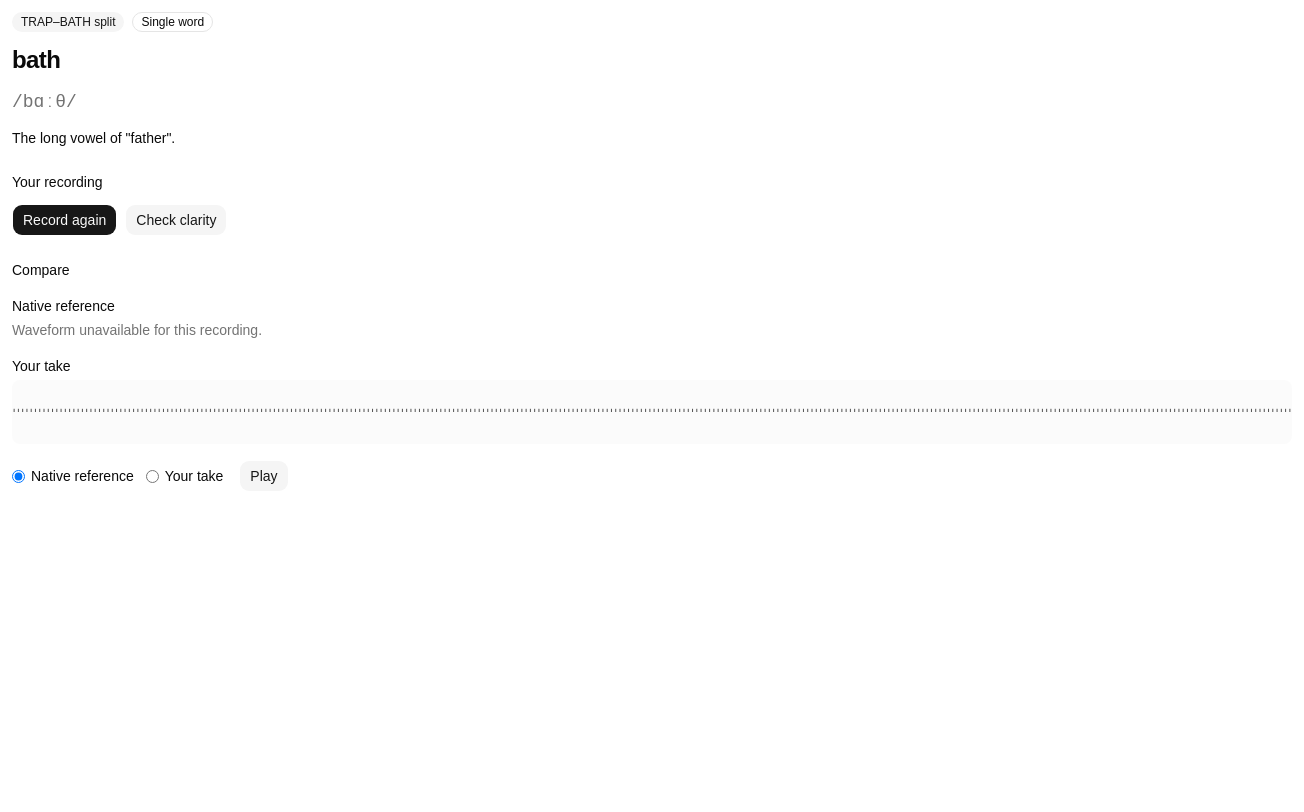
Test case: comparing a take with the reference › drops the old markers when a new take is recorded
Click the button "Check clarity". click: [176, 220]
box: [125,204,227,236]
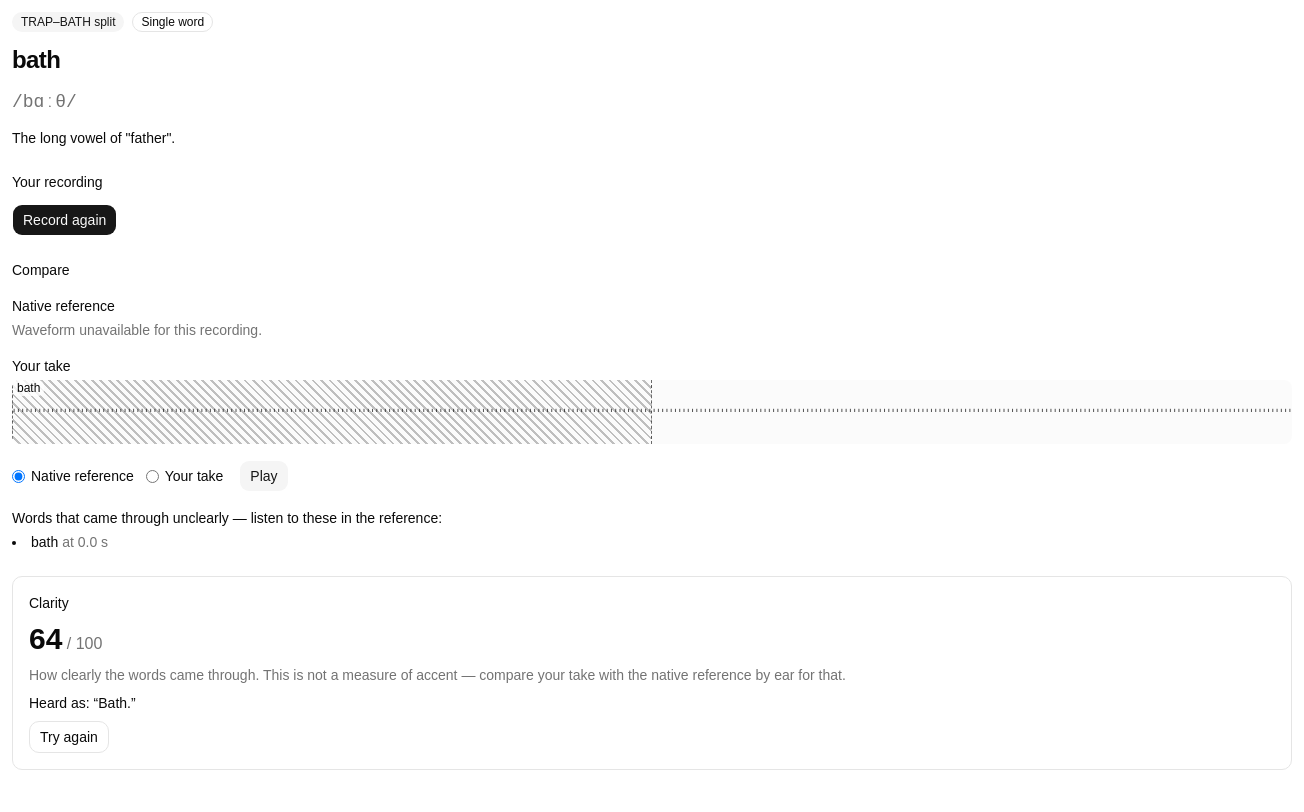
Check: the element with test id "unclear-marker" is shown, box [12,380,652,444]
Click the button "Record again". click: [65, 220]
box: [12,204,117,236]
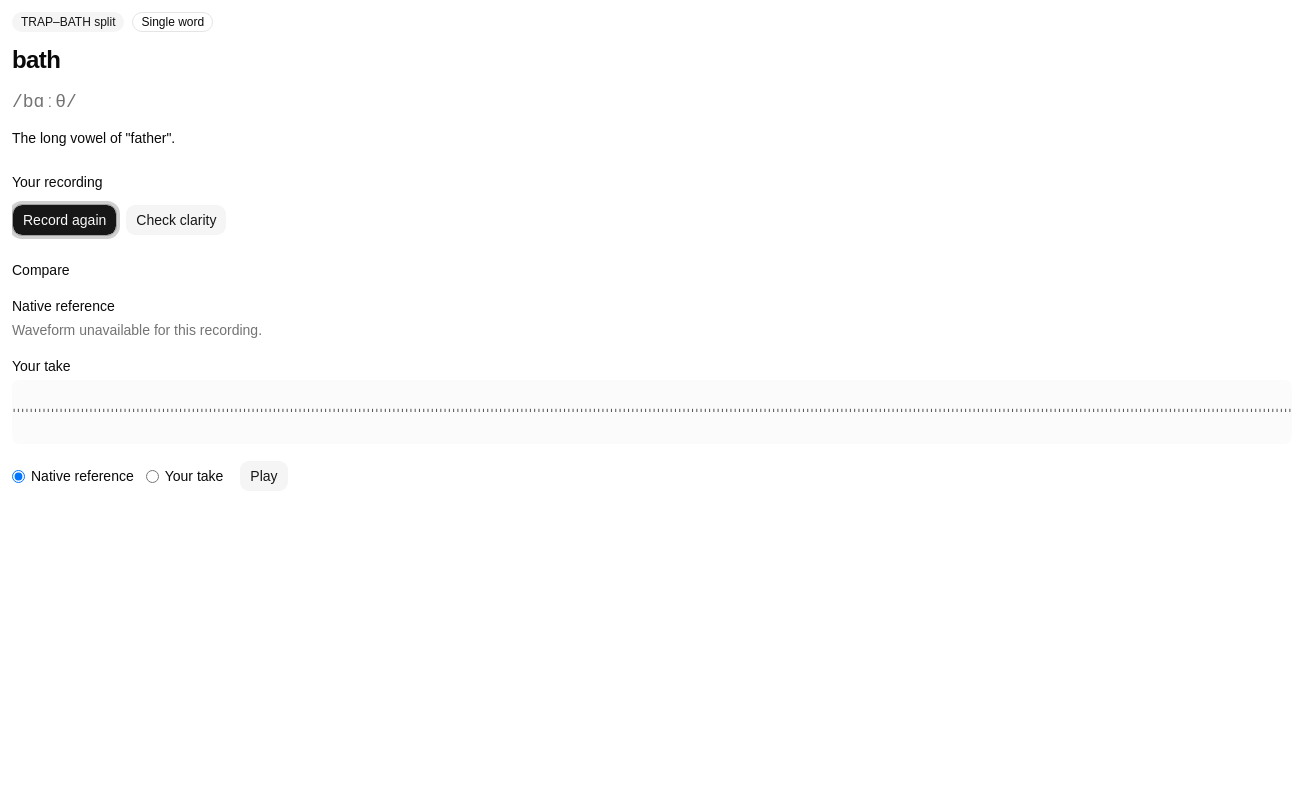
Check: the element with test id "unclear-marker" is gone
